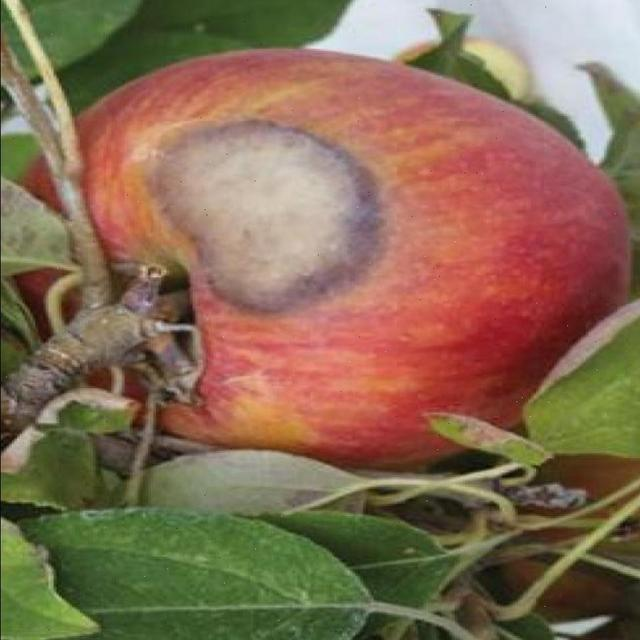Sunscald Fruit: (101, 83, 250, 203)
